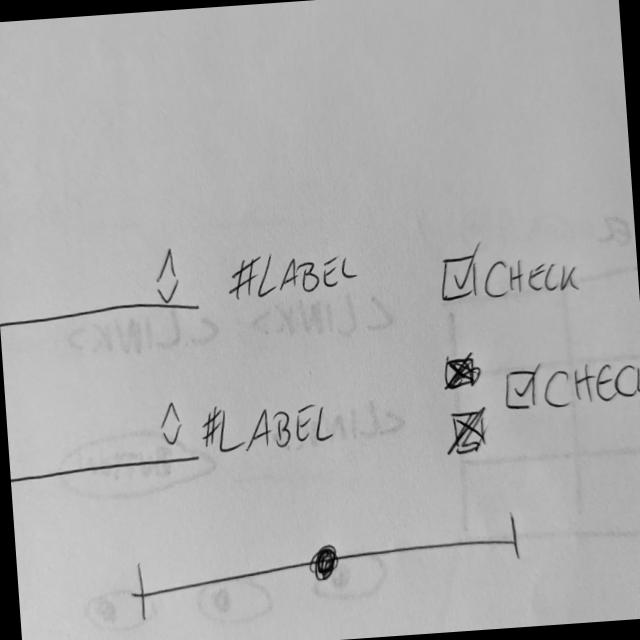checkbox: (435, 233, 581, 310), (501, 353, 640, 415)
label: (200, 390, 336, 460), (223, 246, 361, 306)
number-input: (5, 392, 204, 488), (0, 241, 201, 333)
slider: (127, 507, 526, 624)
